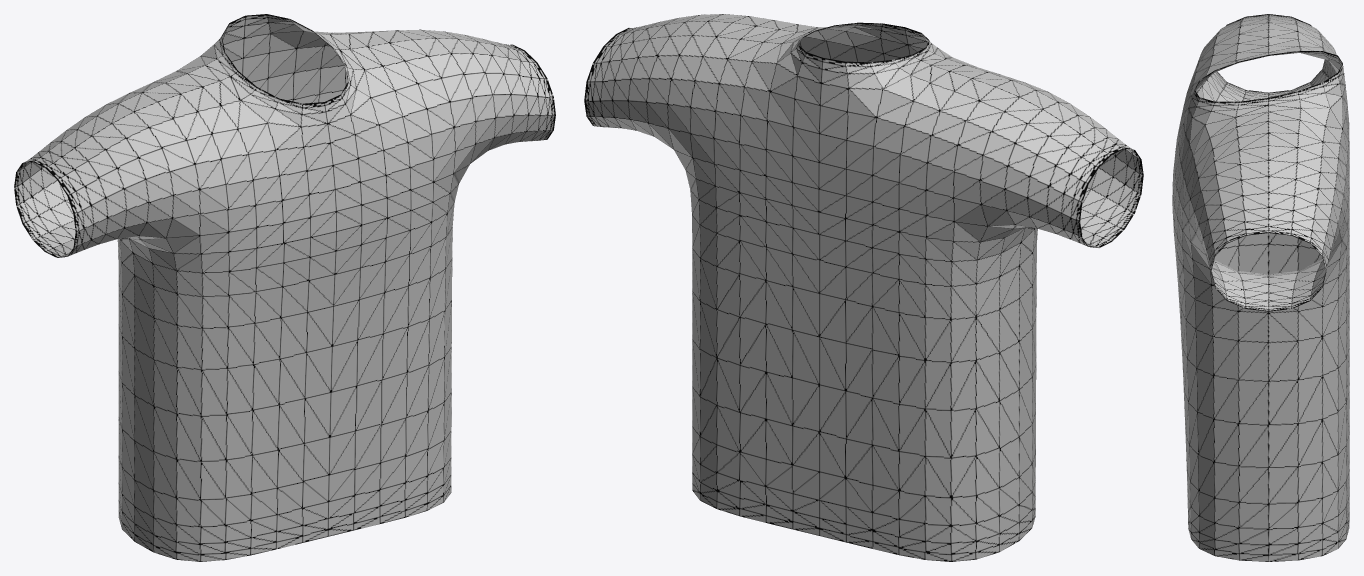
Rendered from tshirt.fbx.
The picture shows the model from 3 angles, left to right: view 1: azimuth 30°, elevation 25°; view 2: azimuth 150°, elevation 25°; view 3: azimuth 270°, elevation 25°; orthographic projection. The views are drawn at different scales.
Visible parts, largest first — view 1: Cube; view 2: Cube; view 3: Cube.
Part boxes in pixels (box(x1,y1,x2,y2)): Cube: box(14, 14, 555, 561); Cube: box(584, 14, 1143, 561); Cube: box(1172, 14, 1349, 561).
Size of the model in its own units: 3445 by 3155 by 1179.
1 material, 1 textured.
